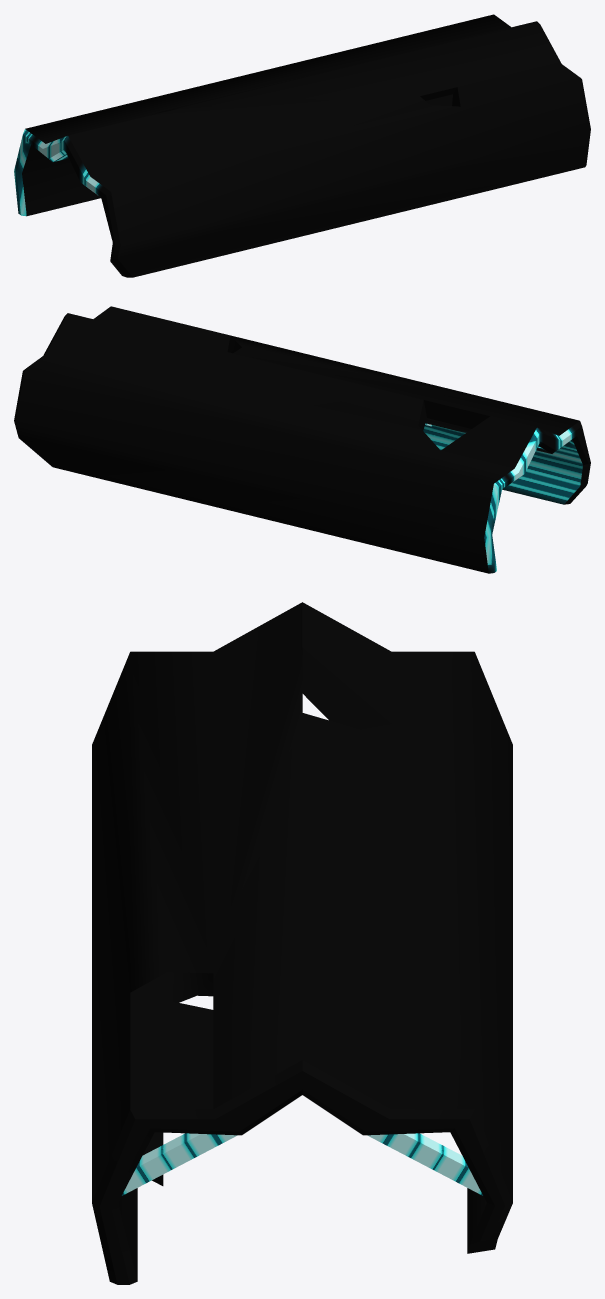
Rendered from Prop_tunnel.fbx.
3 renders of one model, top to bottom at view 1: azimuth 30°, elevation 25°; view 2: azimuth 150°, elevation 25°; view 3: azimuth 270°, elevation 25°, orthographic. The views are drawn at different scales.
Visible parts, largest first — view 1: PROP_MESH_Tunnel; view 2: PROP_MESH_Tunnel; view 3: PROP_MESH_Tunnel.
Part boxes in pixels (x1=…): PROP_MESH_Tunnel: x1=14, y1=14, x2=590, y2=277; PROP_MESH_Tunnel: x1=14, y1=306, x2=590, y2=573; PROP_MESH_Tunnel: x1=92, y1=602, x2=512, y2=1284.
Size of the model in its own units: 6473 by 1513 by 2482.
